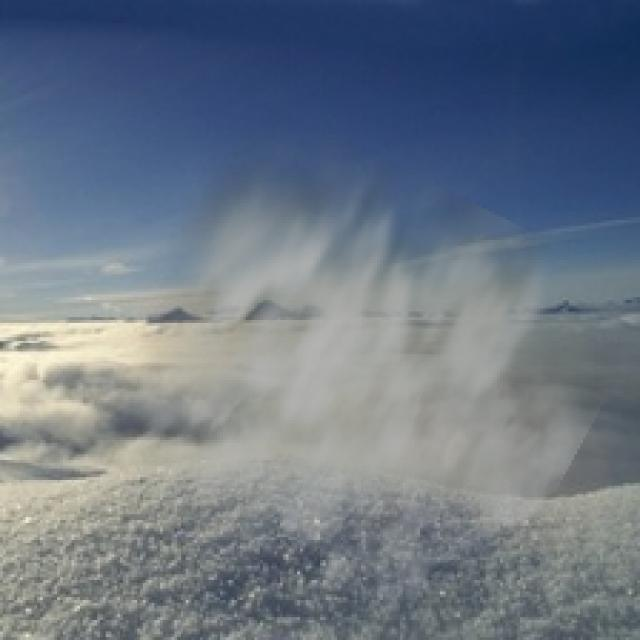Smoke: (103, 103, 620, 623)
